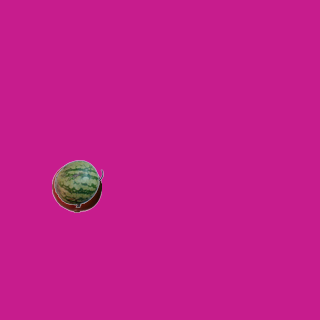Apple Braeburn: (51, 162, 101, 212)
Watermelon: (53, 158, 103, 208)
